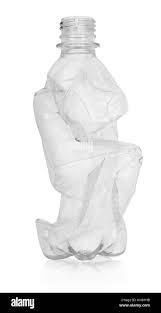plastic: (33, 18, 146, 257)
